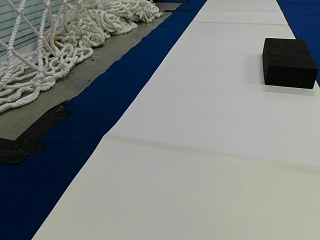block: (261, 36, 317, 88)
